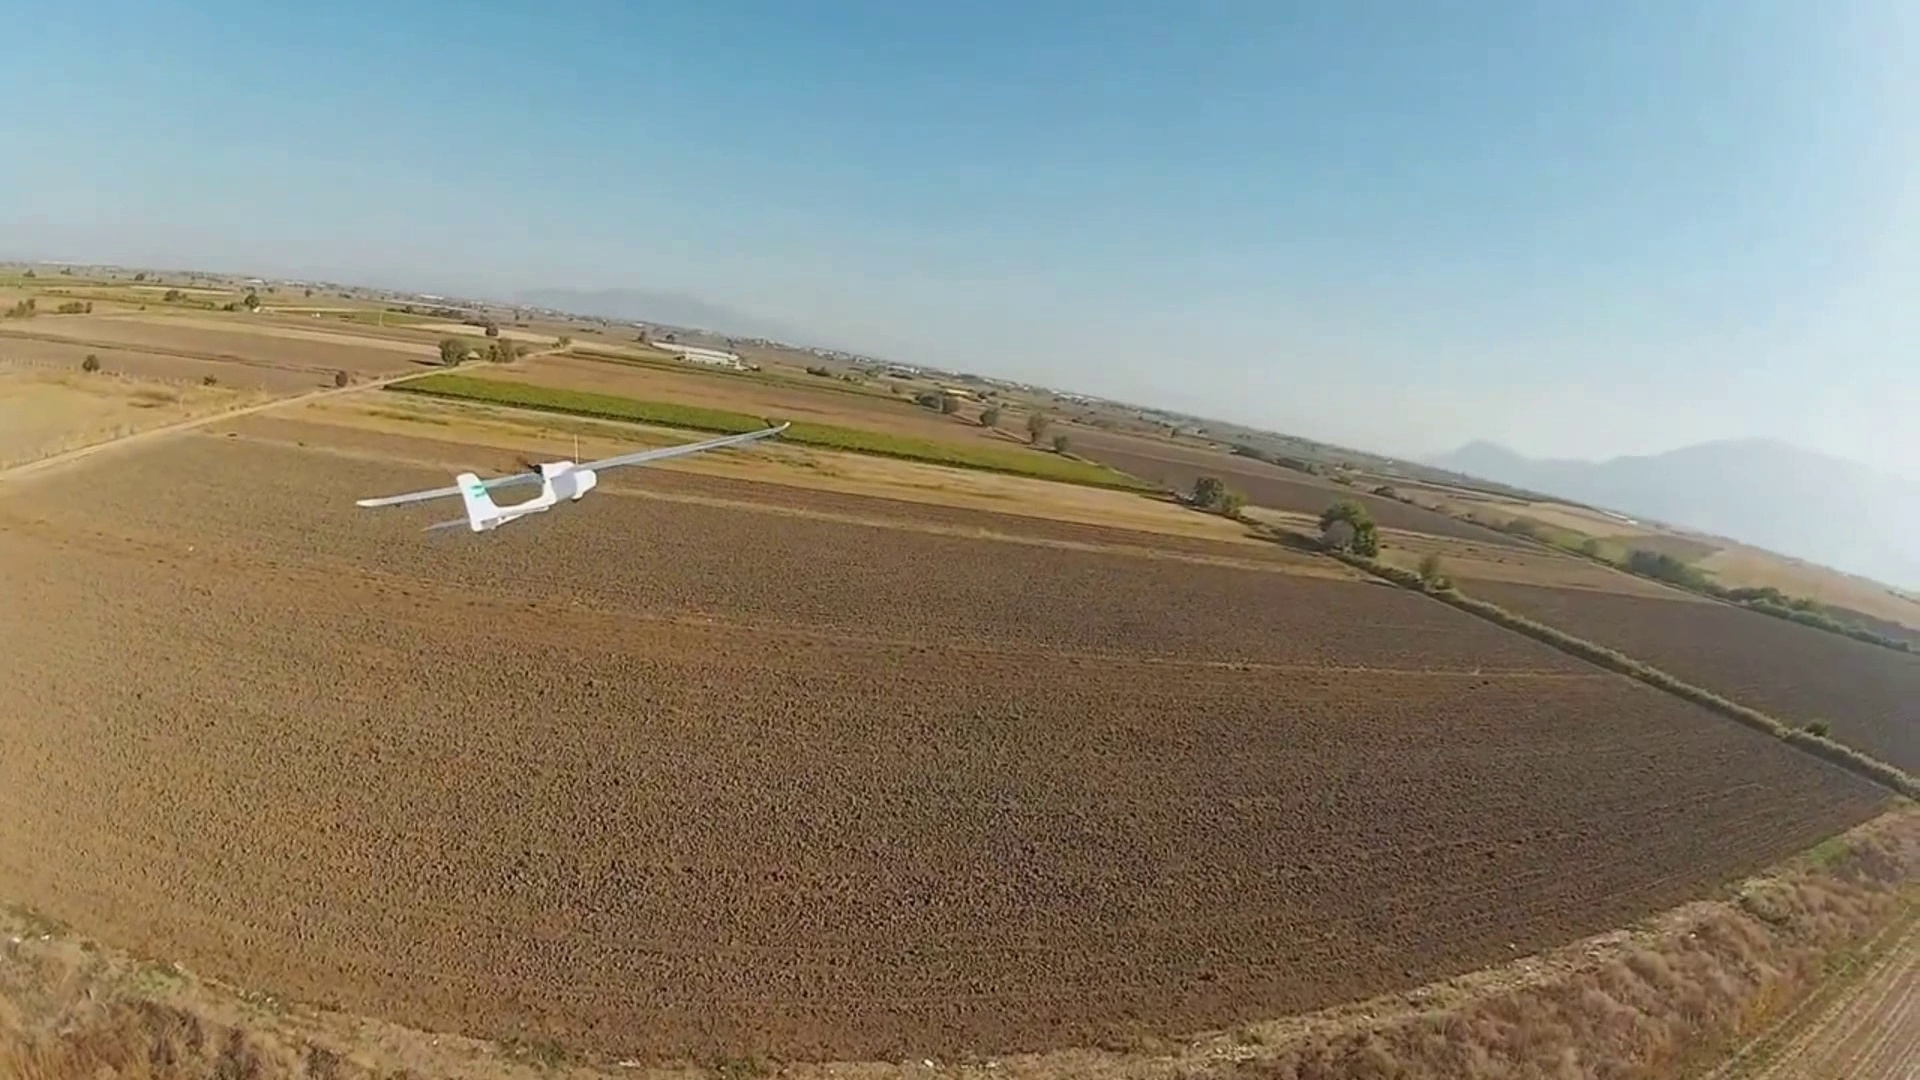airplane: (354, 414, 792, 534)
